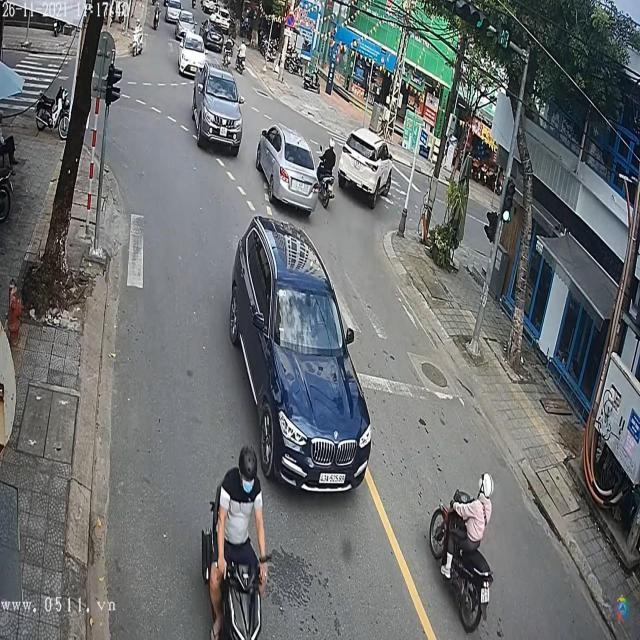car: (226, 212, 375, 508), (256, 123, 320, 216), (191, 69, 244, 158), (337, 128, 395, 208), (176, 28, 208, 79)
motorcycle: (428, 488, 496, 639), (315, 146, 336, 213)
